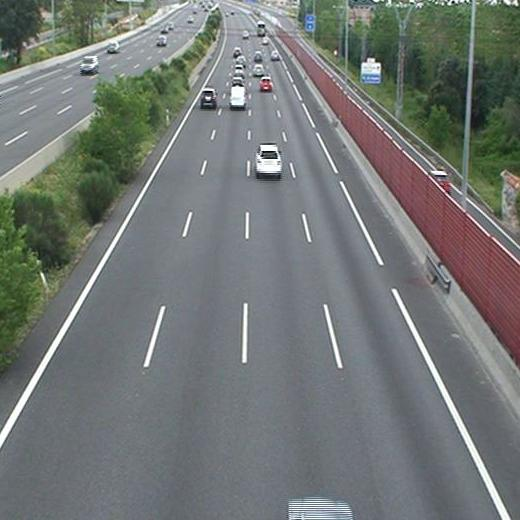bus: (257, 21, 266, 36)
car: (256, 145, 281, 174), (200, 90, 216, 106), (260, 76, 272, 90), (232, 76, 244, 85), (234, 65, 243, 77), (253, 65, 263, 75), (270, 51, 279, 61), (235, 56, 246, 64), (253, 51, 261, 61), (232, 48, 242, 55), (242, 29, 249, 38)
van: (230, 87, 245, 108)
